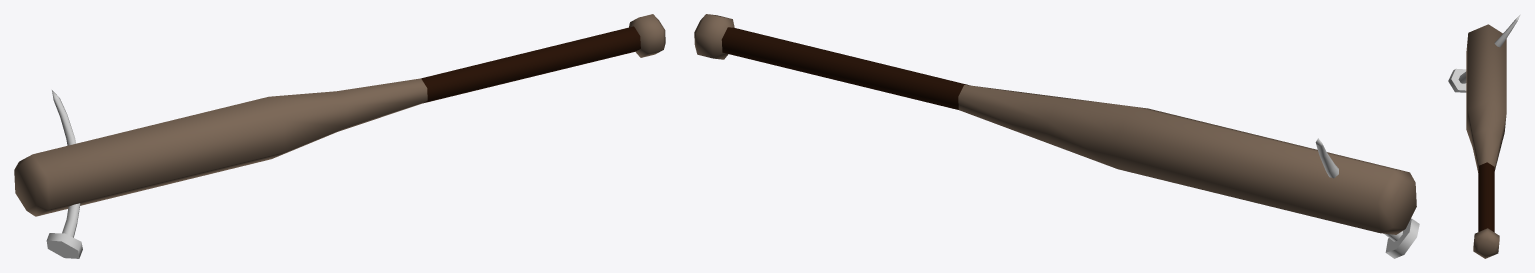
Rendered from M_BaseballBat.FBX.
3 renders of one model, left to right at view 1: azimuth 30°, elevation 25°; view 2: azimuth 150°, elevation 25°; view 3: azimuth 270°, elevation 25°, orthographic. The views are drawn at different scales.
Parts seen in each view (by area): view 1: M_Baseball; view 2: M_Baseball; view 3: M_Baseball.
Boxes of the visible parts, x1=… form: M_Baseball: x1=14, y1=14, x2=665, y2=258; M_Baseball: x1=694, y1=14, x2=1419, y2=258; M_Baseball: x1=1448, y1=14, x2=1520, y2=258.
Bounding box in the file's own units: 56.36 × 11.21 × 8.39.
